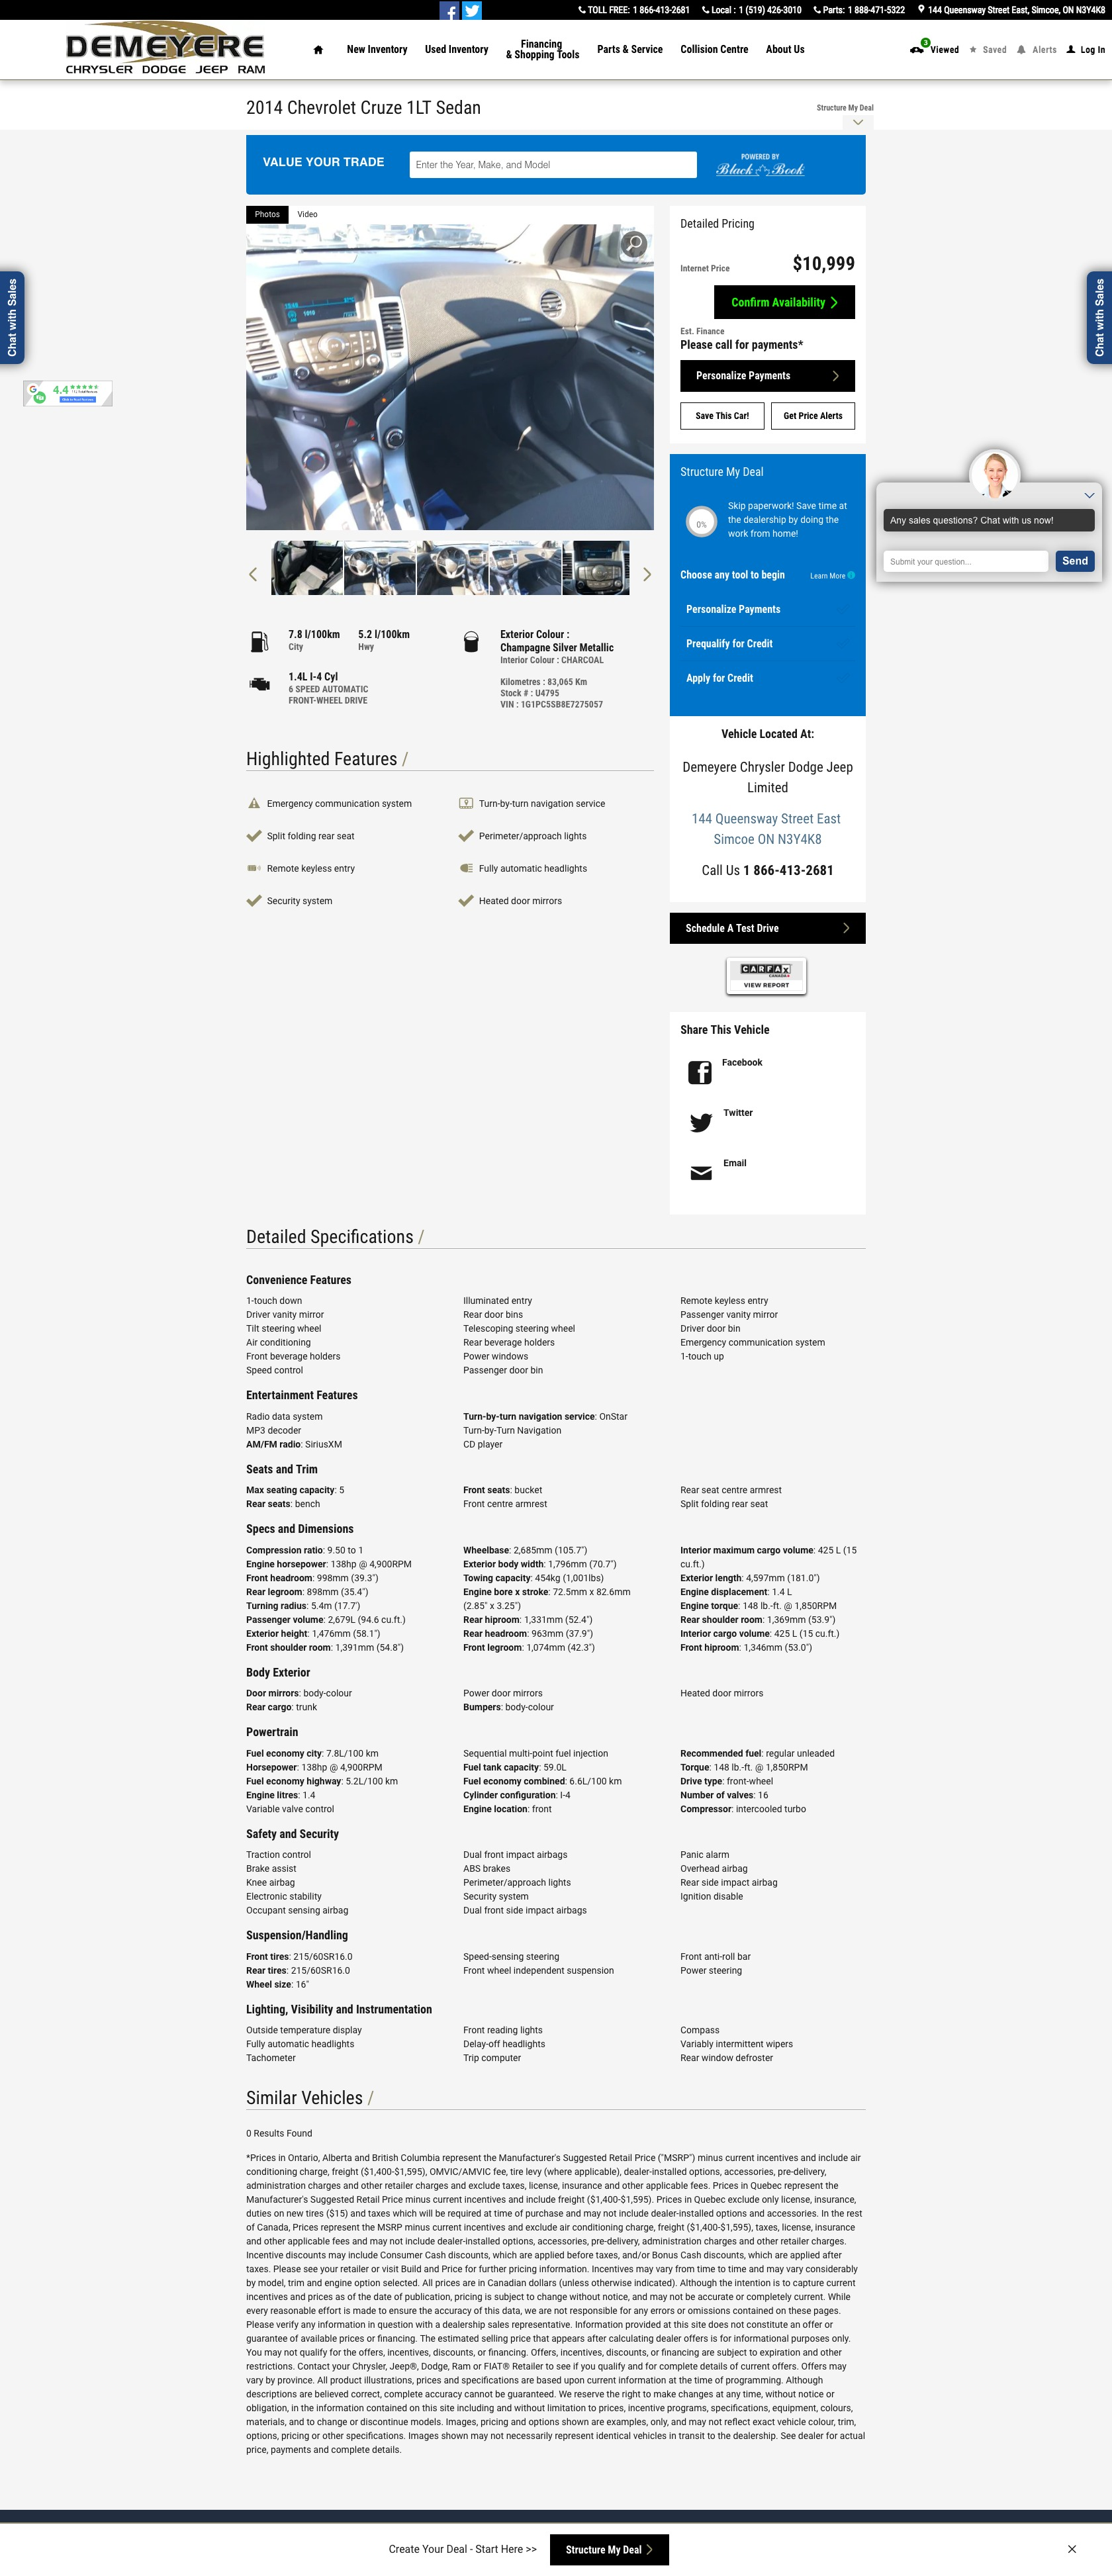car: (644, 567, 652, 583)
